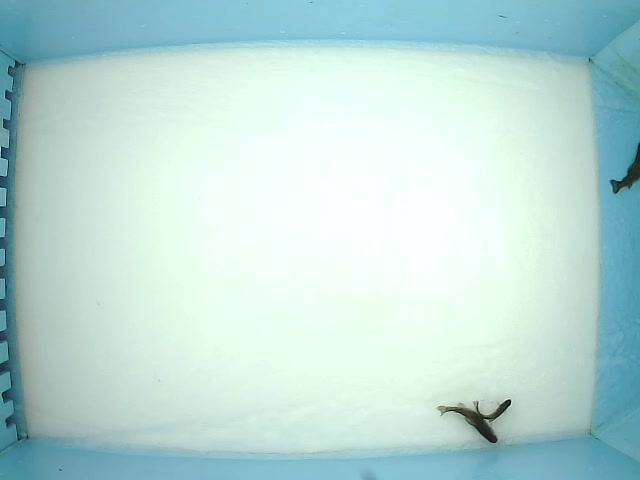fish: (436, 402, 498, 444), (472, 398, 512, 424)
